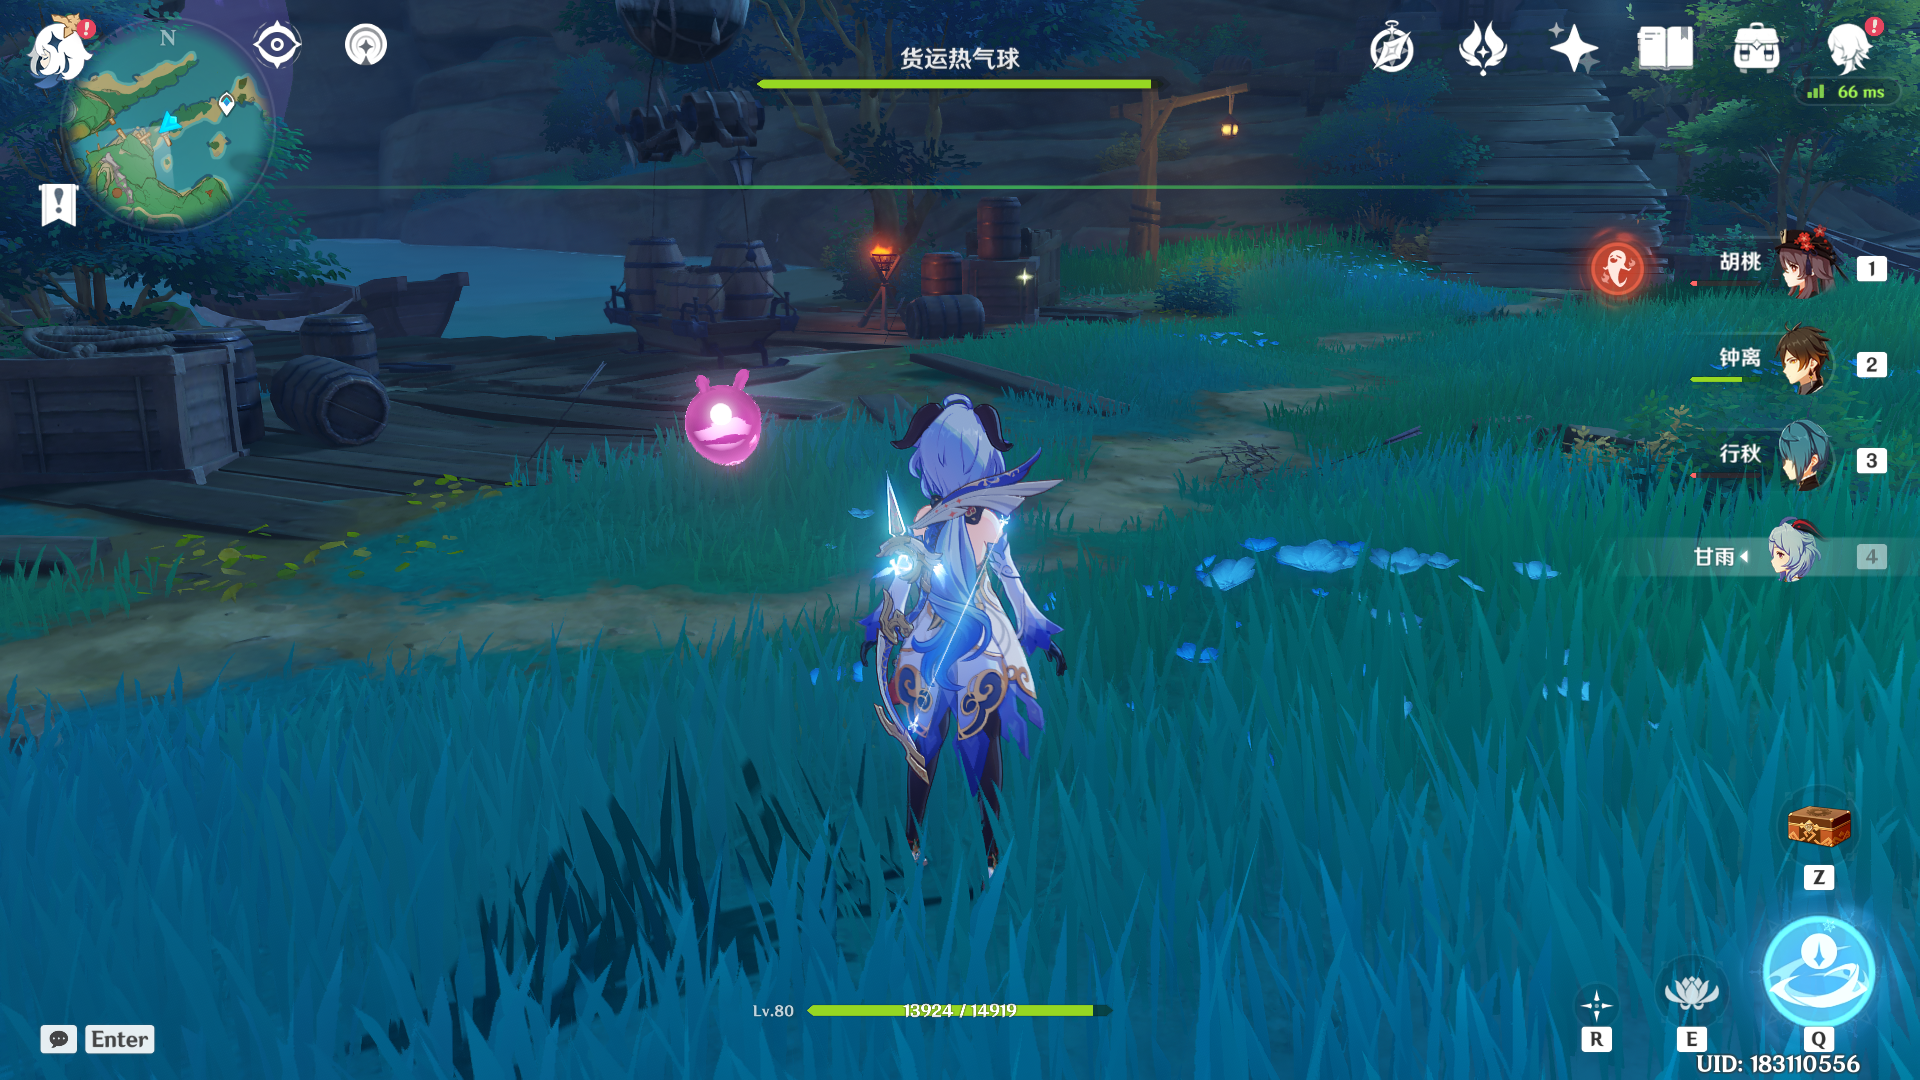character: (814, 367, 1102, 899)
